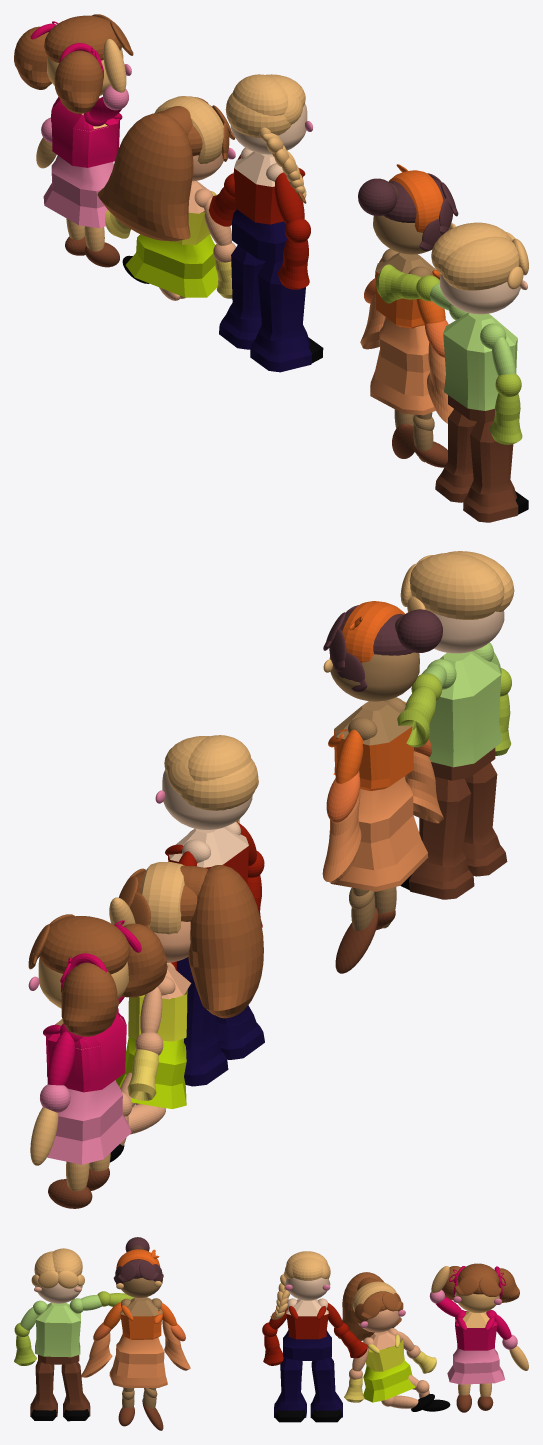
The model's file is 5 ppl now.fbx.
3 renders of one model, top to bottom at view 1: azimuth 30°, elevation 25°; view 2: azimuth 150°, elevation 25°; view 3: azimuth 270°, elevation 25°, orthographic. The views are drawn at different scales.
Parts seen in each view (by area): view 1: Sphere.021, Cube.003, trousers.003, Cube, trousers.001, Cube.019, trousers.002, Sphere.098, Cube.011, Cube.009, Sphere.039, Cube.016 (+30 smaller); view 2: Sphere.021, Cube, trousers.003, Cube.016, Sphere.097, trousers.002, Sphere.038, Sphere.061, Cube.011, Cube.019, Cube.009, Sphere.088 (+30 smaller); view 3: trousers.003, Cube, trousers.002, trousers.001, Cube.009, Cube.003, trousers, Cube.016, Cube.019, Sphere.021, Cube.001, Cube.011 (+49 smaller).
Boxes of the visible parts, bbox=[...] form: Sphere.021: bbox=[97, 113, 193, 241]; Cube.003: bbox=[250, 261, 312, 372]; trousers.003: bbox=[370, 317, 435, 415]; Cube: bbox=[443, 313, 517, 410]; trousers.001: bbox=[125, 234, 218, 297]; Cube.019: bbox=[463, 421, 518, 522]; trousers.002: bbox=[43, 155, 113, 228]; Sphere.098: bbox=[441, 236, 519, 290]; Cube.011: bbox=[51, 98, 119, 167]; Cube.009: bbox=[219, 245, 265, 349]; Sphere.039: bbox=[54, 50, 103, 113]; Cube.016: bbox=[435, 409, 476, 502]; Sphere.021: bbox=[188, 865, 263, 1018]; Cube: bbox=[428, 651, 501, 767]; trousers.003: bbox=[330, 776, 428, 891]; Cube.016: bbox=[409, 776, 474, 899]; Sphere.097: bbox=[409, 553, 504, 619]; trousers.002: bbox=[47, 1080, 131, 1164]; Sphere.038: bbox=[39, 916, 129, 974]; Sphere.061: bbox=[61, 962, 119, 1036]; Cube.011: bbox=[45, 1011, 126, 1092]; Cube.019: bbox=[462, 762, 507, 876]; Cube.009: bbox=[176, 957, 228, 1086]; Sphere.088: bbox=[329, 652, 419, 701]; trousers.003: bbox=[109, 1334, 167, 1387]; Cube: bbox=[35, 1302, 80, 1357]; trousers.002: bbox=[447, 1348, 504, 1384]; trousers.001: bbox=[363, 1360, 415, 1402]; Cube.009: bbox=[310, 1357, 342, 1418]; Cube.003: bbox=[274, 1357, 306, 1417]; trousers: bbox=[283, 1330, 331, 1360]; Cube.016: bbox=[61, 1362, 90, 1417]; Cube.019: bbox=[30, 1361, 57, 1416]; Sphere.021: bbox=[338, 1272, 401, 1340]; Cube.001: bbox=[286, 1314, 328, 1339]; Cube.011: bbox=[455, 1311, 497, 1350].
Size of the model in its own units: 370 by 789 by 2061.
